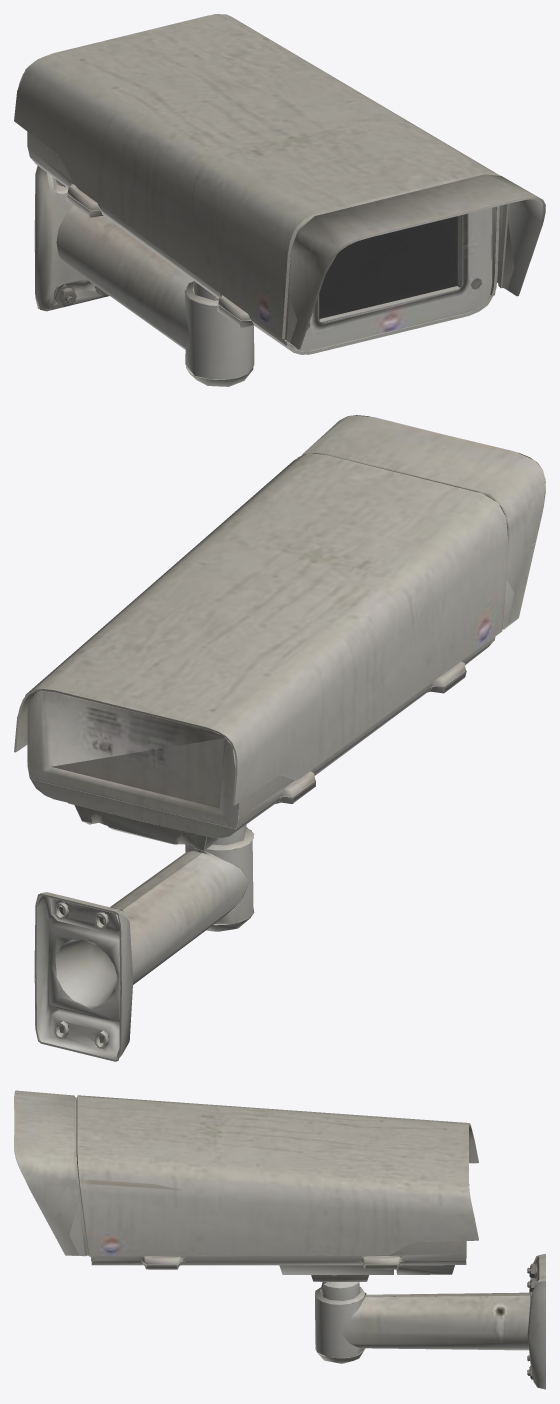
The model's file is u_ph_security_camera_02.glb.
3 views of the same model, one above another, from view 1: azimuth 30°, elevation 25°; view 2: azimuth 150°, elevation 25°; view 3: azimuth 270°, elevation 25° (orthographic). The views are drawn at different scales.
Visible parts, largest first — view 1: security_camera_02_mount; view 2: security_camera_02_mount; view 3: security_camera_02_mount.
Boxes of the visible parts, x1=… form: security_camera_02_mount: x1=14, y1=14, x2=545, y2=386; security_camera_02_mount: x1=14, y1=415, x2=545, y2=1061; security_camera_02_mount: x1=14, y1=1090, x2=545, y2=1389.
Bounding box in the file's own units: 0.1415 × 0.2086 × 0.3938.
2 materials, 2 textured.
